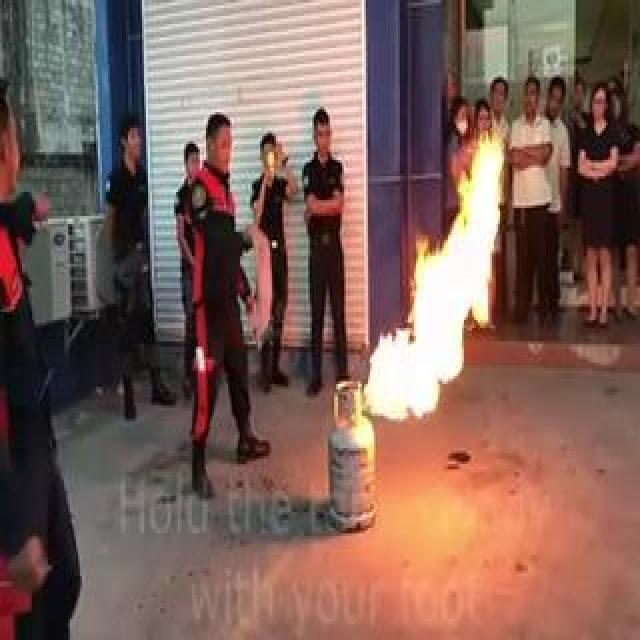Smoke: (390, 97, 466, 428)
